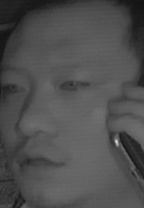eye: (57, 76, 88, 96), (2, 78, 29, 97)
mouth: (16, 145, 64, 177)
